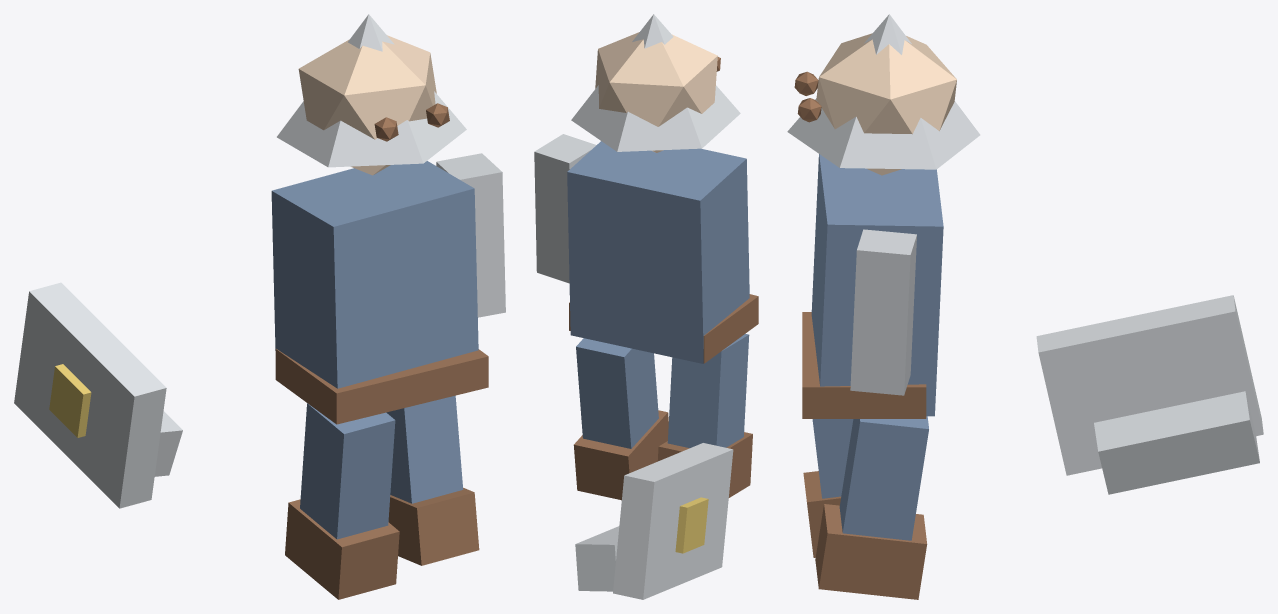
File: npcpose_guard_attack_02.glb
The picture shows the model from 3 angles, left to right: view 1: azimuth 30°, elevation 25°; view 2: azimuth 150°, elevation 25°; view 3: azimuth 270°, elevation 25°; orthographic projection. The views are drawn at different scales.
Visible parts, largest first — view 1: npcpose; view 2: npcpose; view 3: npcpose.
Part boxes in pixels (bbox=[...]): npcpose: bbox=[14, 14, 505, 599]; npcpose: bbox=[534, 14, 758, 599]; npcpose: bbox=[787, 14, 1263, 599].
Size of the model in its own units: 0.9083 by 1.57 by 1.23.
